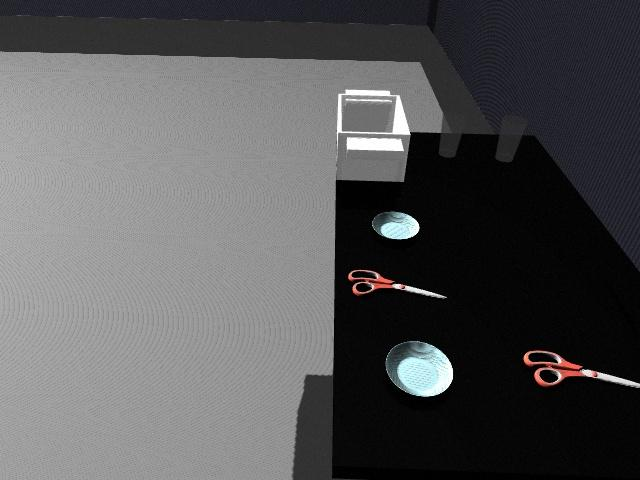cup: (495, 115, 527, 164), (438, 116, 463, 159)
plate: (383, 340, 456, 399), (371, 210, 421, 241), (394, 341, 436, 360)
scissors: (522, 348, 640, 394), (348, 268, 446, 300)
